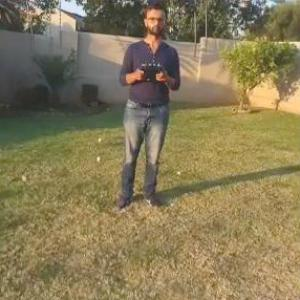follow: (108, 0, 185, 217)
